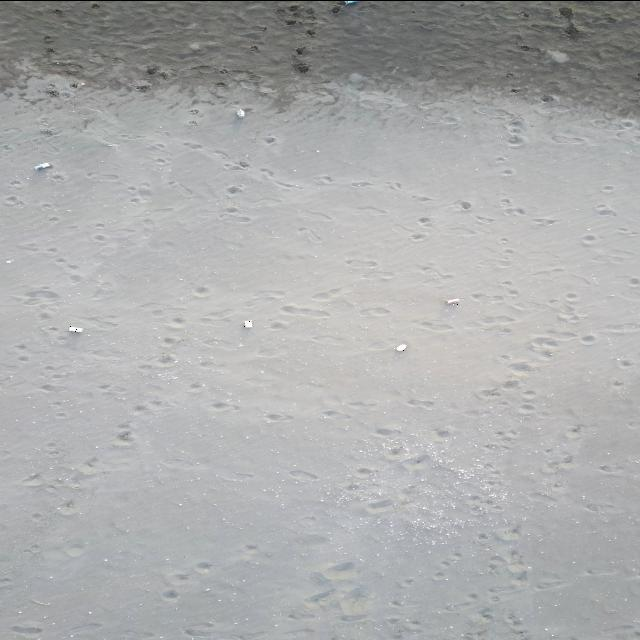Garbage: (547, 49, 567, 63), (35, 161, 51, 169), (68, 326, 83, 332), (395, 344, 407, 351), (236, 108, 244, 118), (243, 320, 252, 327), (448, 299, 460, 304), (344, 0, 357, 4)
